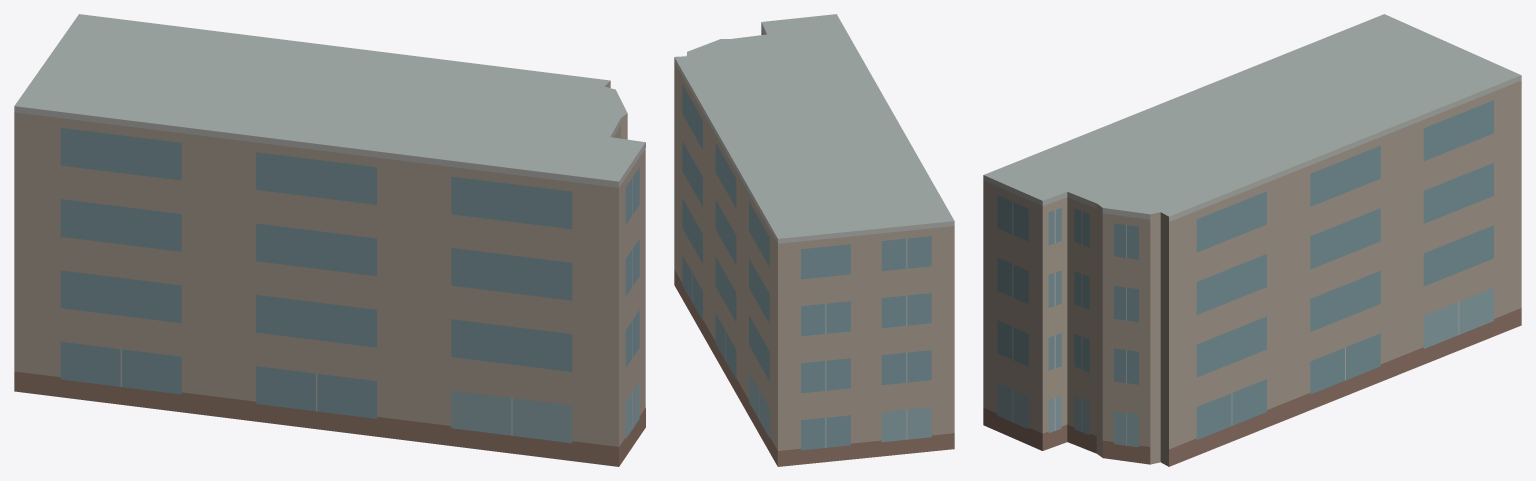
The model's file is survey-upis-32659068.glb.
3 views of the same model, side by side, from view 1: azimuth 30°, elevation 25°; view 2: azimuth 150°, elevation 25°; view 3: azimuth 270°, elevation 25° (orthographic). The views are drawn at different scales.
Parts seen in each view (by area): view 1: survey-upis-32659068.tmp; view 2: survey-upis-32659068.tmp; view 3: survey-upis-32659068.tmp.
Boxes of the visible parts, x1,y1,x2,y2 form: survey-upis-32659068.tmp: (14,14,645,466); survey-upis-32659068.tmp: (674,14,954,466); survey-upis-32659068.tmp: (983,14,1521,466).
Size of the model in its own units: 19.78 by 11.38 by 22.19.
